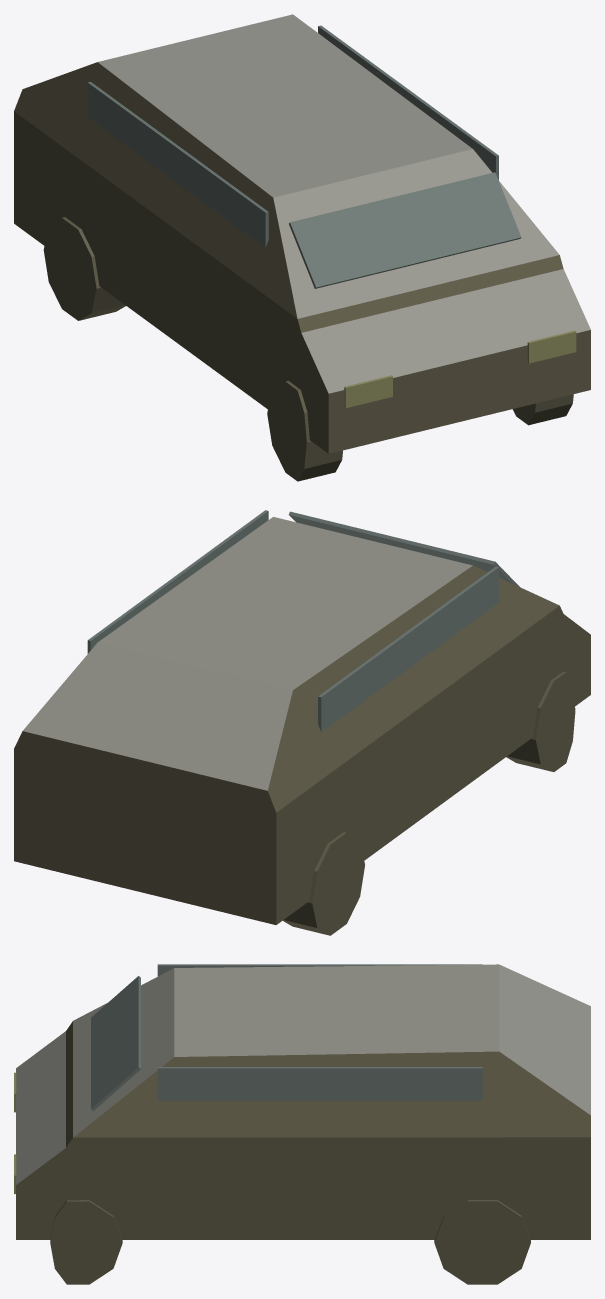
The model's file is SM_CocheCivil_Utilitario_v3_LOD0.fbx.
3 views of the same model, one above another, from view 1: azimuth 30°, elevation 25°; view 2: azimuth 150°, elevation 25°; view 3: azimuth 270°, elevation 25° (orthographic). The views are drawn at different scales.
Parts seen in each view (by area): view 1: SM_coche_civil_v3_LOD0; view 2: SM_coche_civil_v3_LOD0; view 3: SM_coche_civil_v3_LOD0.
Boxes of the visible parts, x1,y1,x2,y2 form: SM_coche_civil_v3_LOD0: (14, 14, 590, 481); SM_coche_civil_v3_LOD0: (14, 510, 590, 935); SM_coche_civil_v3_LOD0: (14, 964, 590, 1284).
Bounding box in the file's own units: 1.7 × 1.44 × 3.46.
